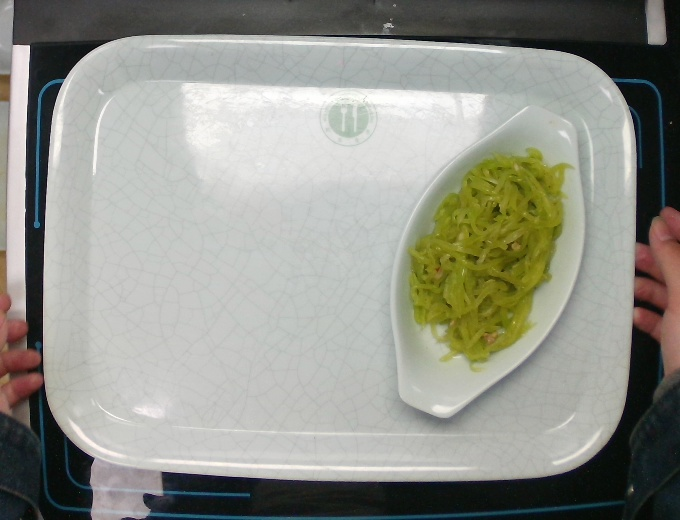JYsf-Yu_Pan: (384, 101, 591, 430)
